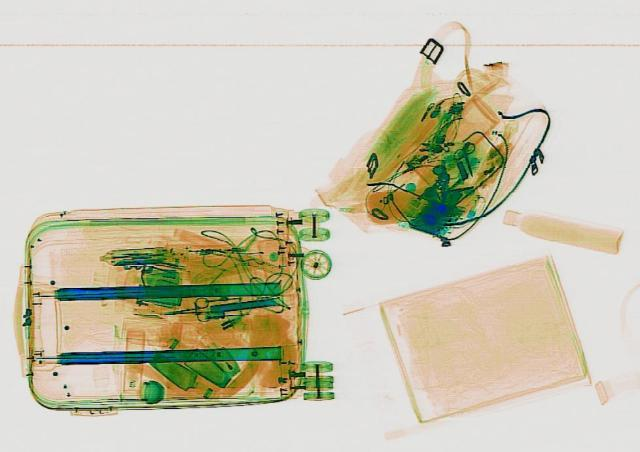Scissors: (158, 296, 216, 324)
